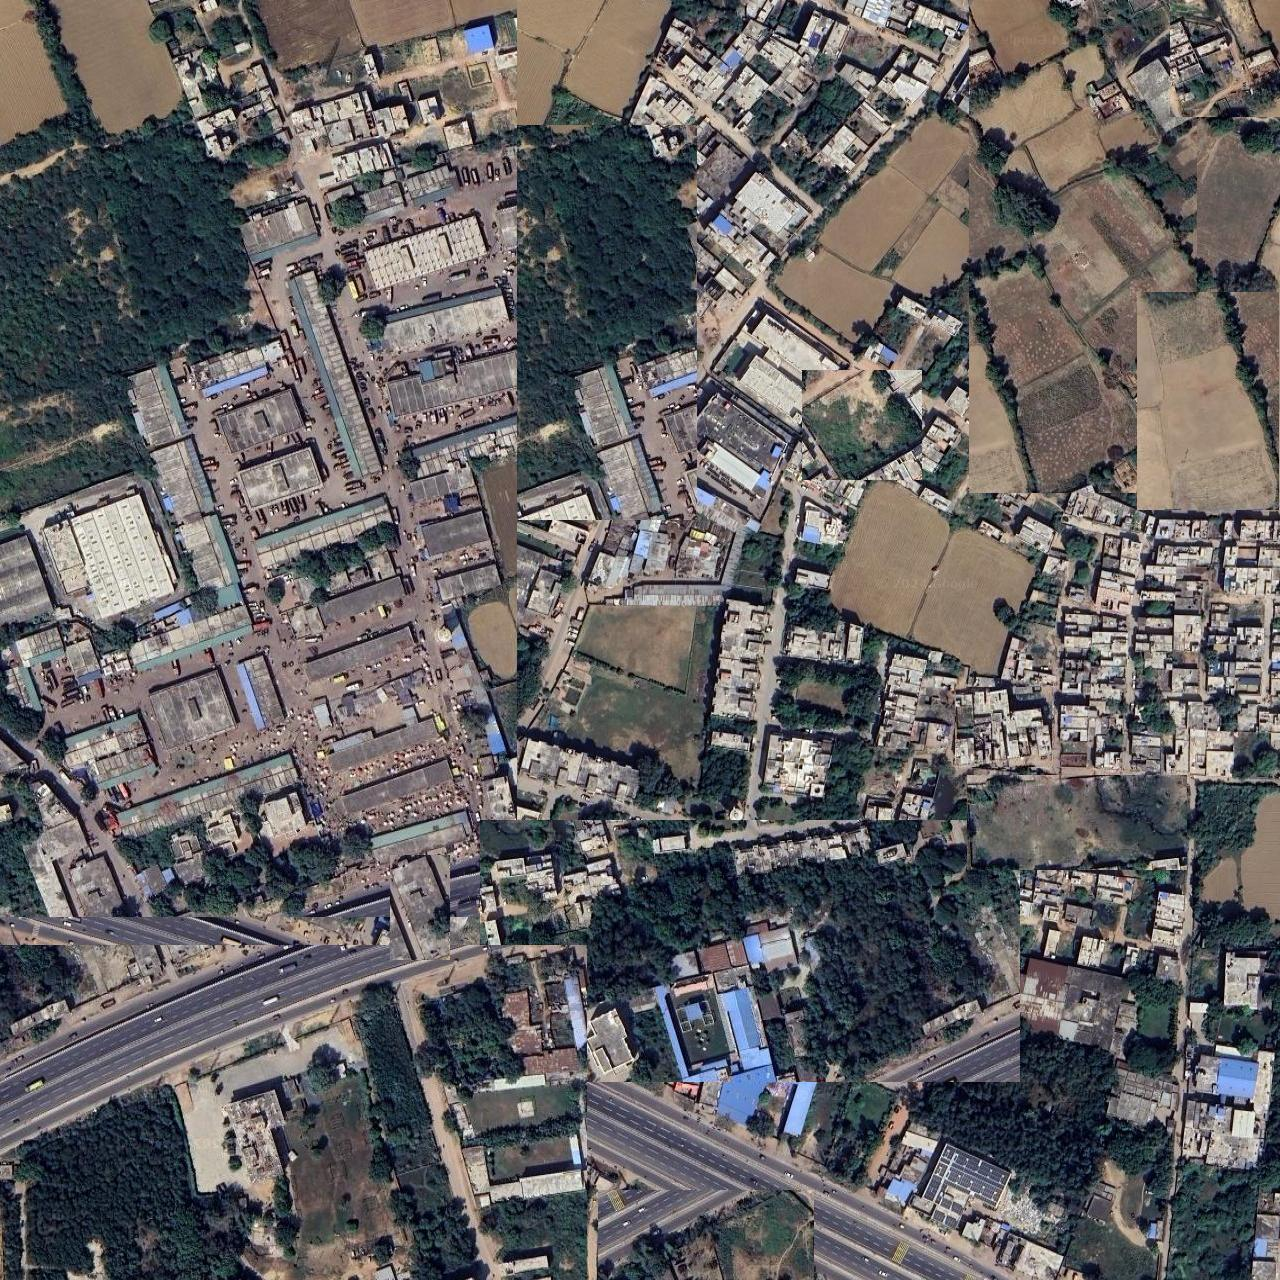greenery: (0, 945, 587, 1280), (268, 125, 697, 520), (481, 821, 1020, 1082), (922, 975, 1165, 1205), (1138, 293, 1279, 510), (1178, 1015, 1280, 1280), (968, 775, 1187, 870), (1148, 125, 1280, 277), (599, 1190, 813, 1280), (808, 1010, 896, 1182), (802, 370, 922, 481), (1170, 0, 1280, 117), (1167, 1163, 1258, 1279), (1194, 785, 1274, 879), (1220, 949, 1269, 1017)
house: (0, 0, 517, 917), (605, 0, 1060, 736), (971, 0, 1197, 493), (1057, 488, 1280, 779), (682, 307, 865, 545), (955, 687, 1051, 767), (390, 855, 450, 960)
